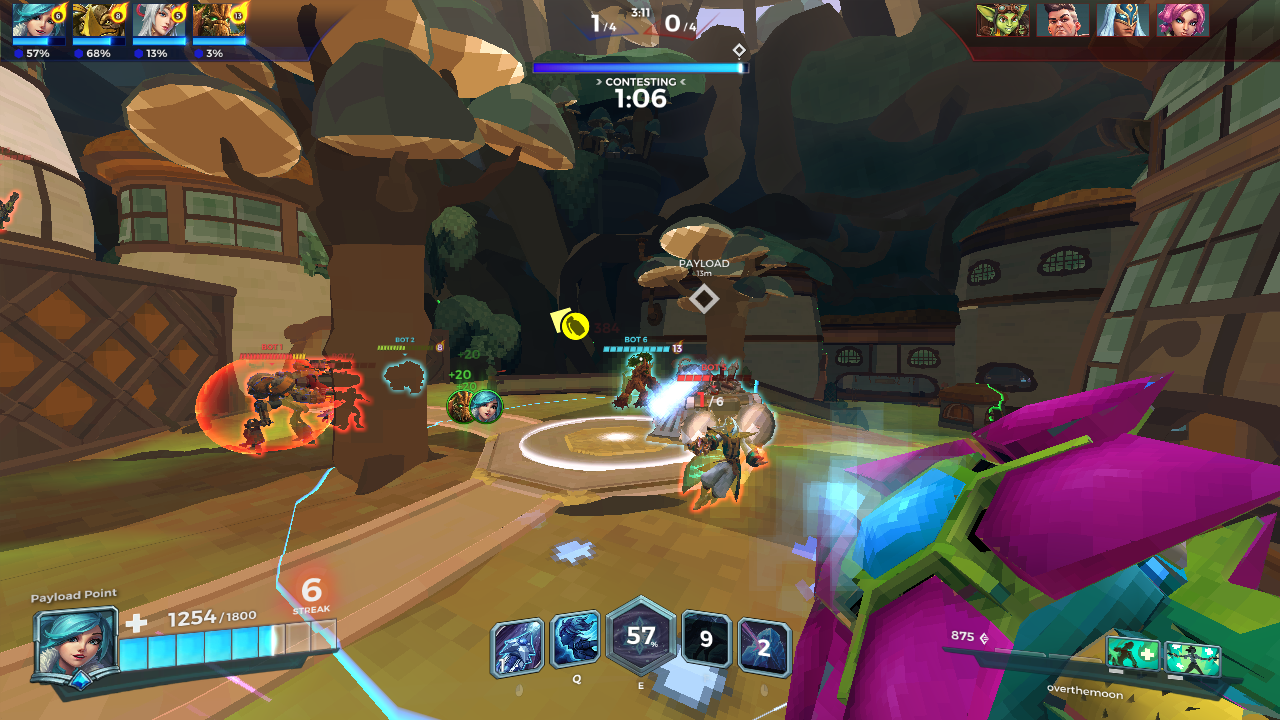model: (238, 358, 325, 462), (680, 412, 763, 510), (316, 390, 369, 436)
